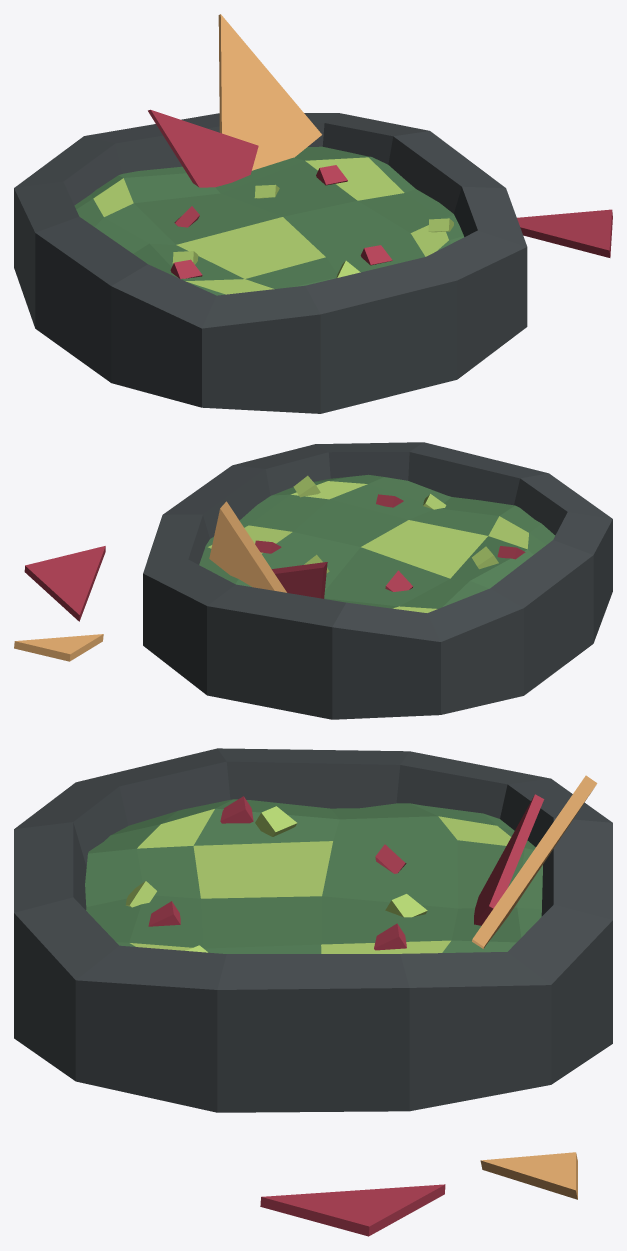
The model's file is Food_Guac.fbx.
The picture shows the model from 3 angles, top to bottom: view 1: azimuth 30°, elevation 25°; view 2: azimuth 150°, elevation 25°; view 3: azimuth 270°, elevation 25°; orthographic projection. The views are drawn at different scales.
Visible parts, largest first — view 1: Cube.125; view 2: Cube.125; view 3: Cube.125.
Boxes of the visible parts, x1,y1,x2,y2 form: Cube.125: (14, 14, 612, 413); Cube.125: (14, 442, 612, 719); Cube.125: (14, 748, 612, 1236).
Size of the model in its own units: 35.53 by 13.67 by 25.94.
